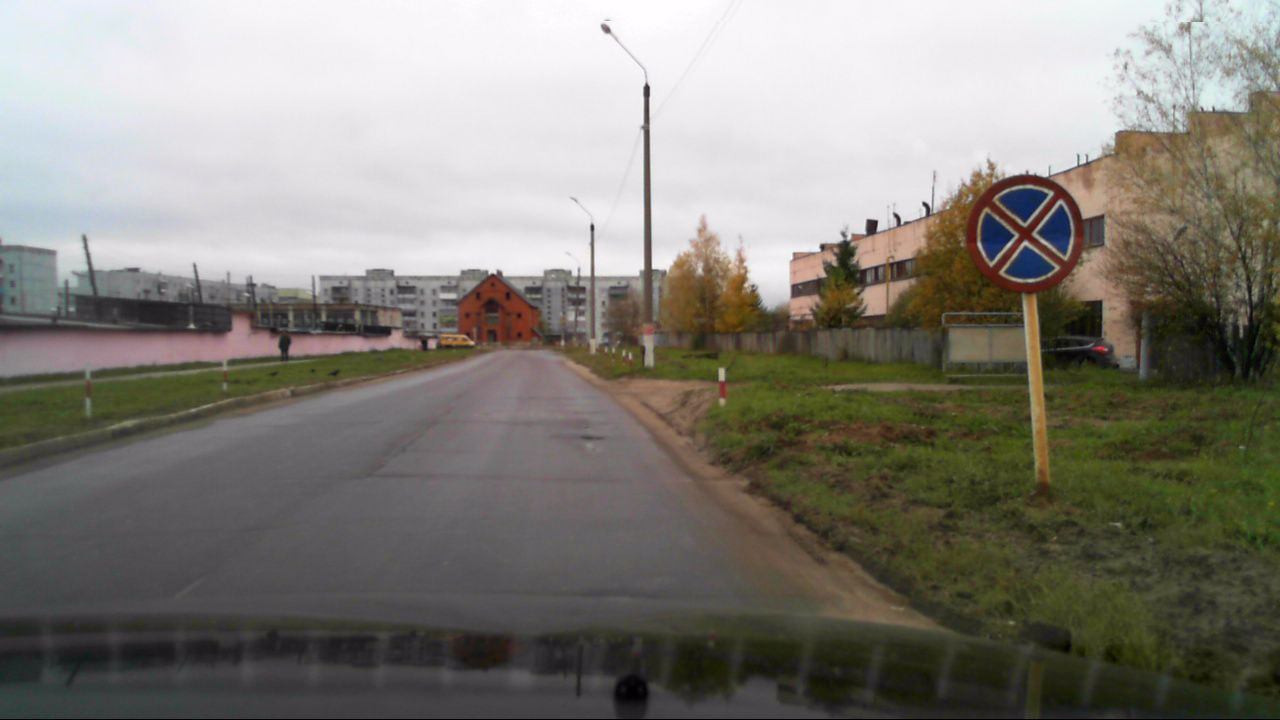No Parking: (966, 174, 1085, 290)
